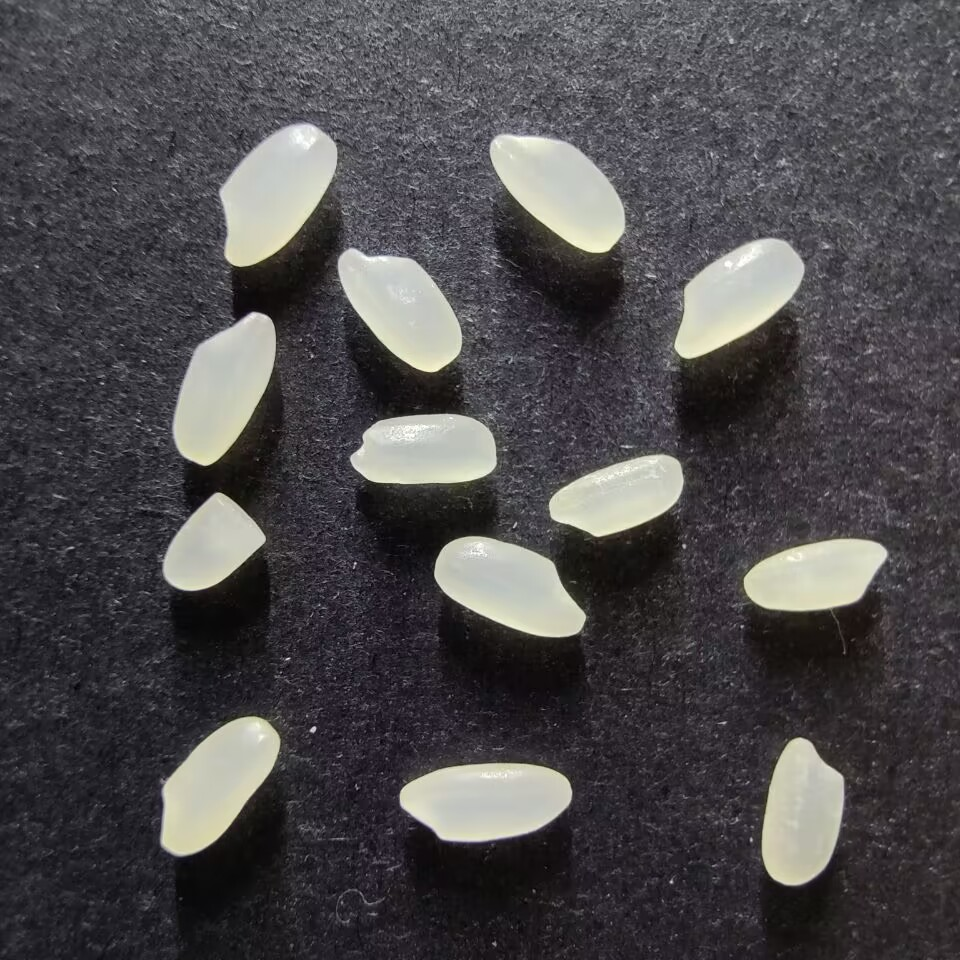broken: (161, 489, 266, 593)
rice: (218, 123, 338, 268), (159, 715, 279, 856), (488, 132, 626, 254), (335, 247, 463, 373), (171, 312, 275, 466), (673, 238, 805, 359), (433, 536, 586, 639), (397, 762, 572, 842), (760, 736, 844, 886), (547, 454, 684, 537), (348, 413, 496, 486), (742, 538, 888, 611)
